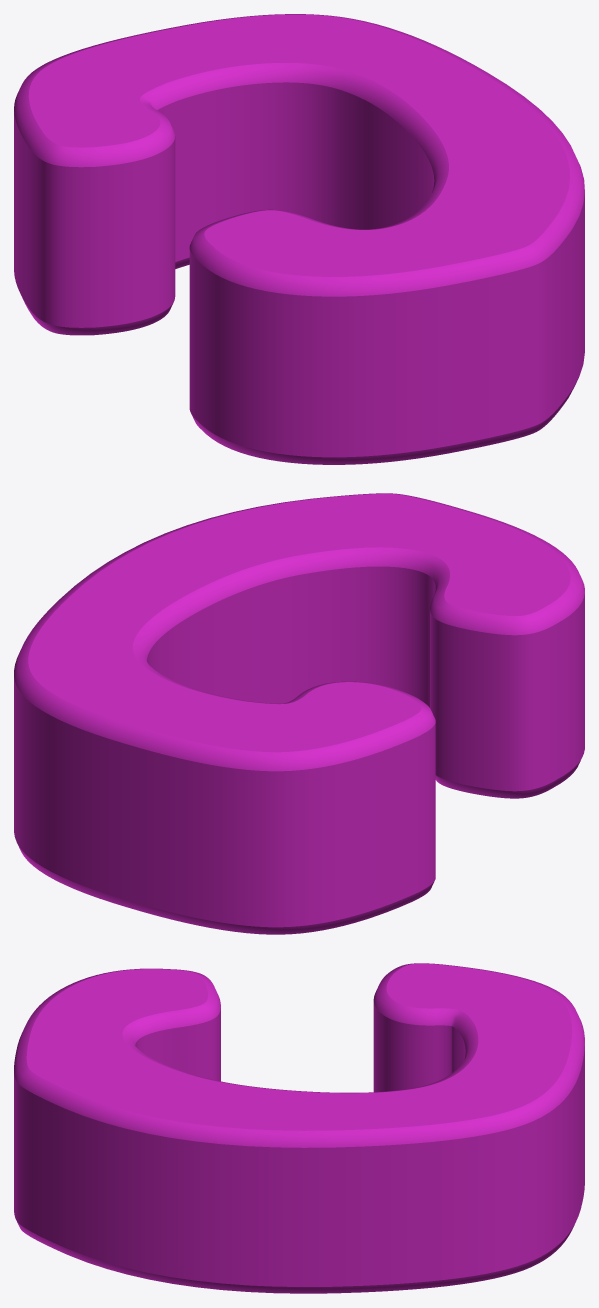
File: Bubble_Letter_c.fbx
3 renders of one model, top to bottom at view 1: azimuth 30°, elevation 25°; view 2: azimuth 150°, elevation 25°; view 3: azimuth 270°, elevation 25°, orthographic. The views are drawn at different scales.
Parts seen in each view (by area): view 1: BubbleLetter_c; view 2: BubbleLetter_c; view 3: BubbleLetter_c.
Part boxes in pixels (left/top/right/bottom): BubbleLetter_c: left=14, top=14, right=584, bottom=464; BubbleLetter_c: left=14, top=493, right=584, bottom=934; BubbleLetter_c: left=14, top=963, right=584, bottom=1293.
Size of the model in its own units: 0.3289 by 0.14 by 0.446.
